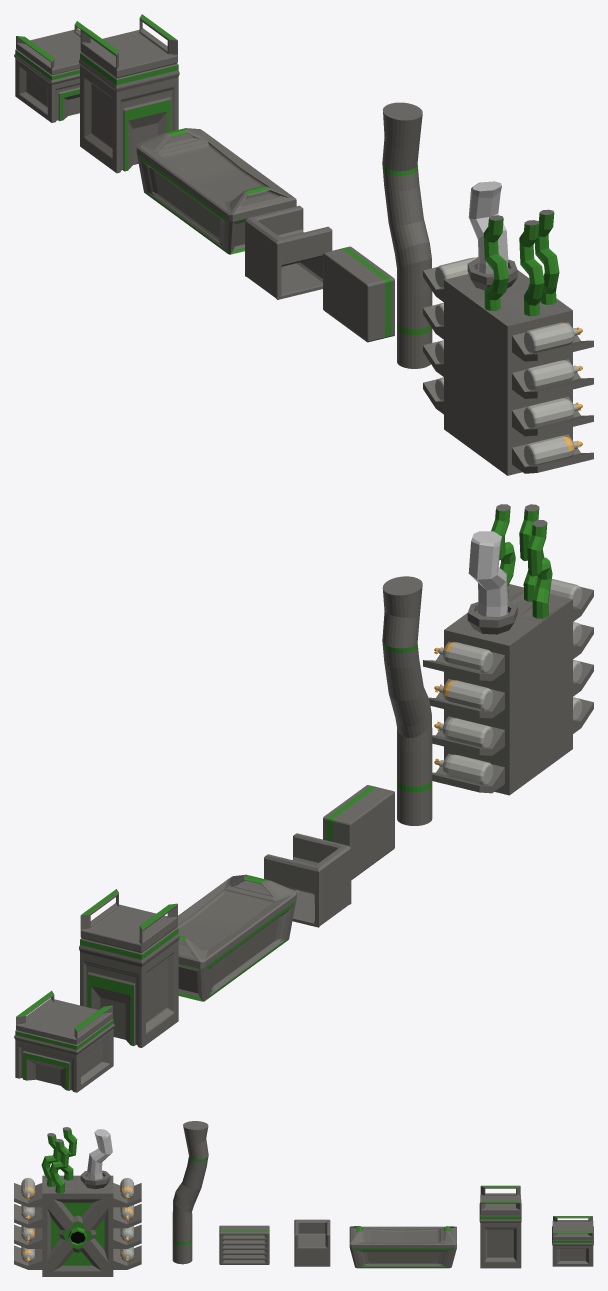
The model's file is AIRMACHINEandGREENPROPS.fbx.
The picture shows the model from 3 angles, top to bottom: view 1: azimuth 30°, elevation 25°; view 2: azimuth 150°, elevation 25°; view 3: azimuth 270°, elevation 25°; orthographic projection. The views are drawn at different scales.
Visible parts, largest first — view 1: AIR MACHINE, Cube.007, bench, Cylinder.004, Cube.005, Cube.008, Cube.006; view 2: AIR MACHINE, Cube.007, bench, Cylinder.004, Cube.006, Cube.005, Cube.008; view 3: AIR MACHINE, bench, Cube.007, Cylinder.004, Cube.006, Cube.008, Cube.005.
Boxes of the visible parts, bbox=[...] form: AIR MACHINE: bbox=[423, 181, 593, 475]; Cube.007: bbox=[79, 14, 179, 173]; bench: bbox=[136, 128, 296, 254]; Cylinder.004: bbox=[382, 102, 432, 368]; Cube.005: bbox=[245, 205, 332, 299]; Cube.008: bbox=[323, 246, 394, 342]; Cube.006: bbox=[14, 21, 93, 122]; AIR MACHINE: bbox=[423, 504, 593, 795]; Cube.007: bbox=[79, 889, 179, 1047]; bench: bbox=[177, 874, 296, 1001]; Cylinder.004: bbox=[382, 576, 432, 825]; Cube.006: bbox=[14, 990, 114, 1092]; Cube.005: bbox=[264, 833, 351, 927]; Cube.008: bbox=[323, 785, 394, 879]; AIR MACHINE: bbox=[14, 1127, 141, 1276]; bench: bbox=[349, 1226, 456, 1268]; Cube.007: bbox=[479, 1185, 521, 1268]; Cylinder.004: bbox=[172, 1121, 208, 1264]; Cube.006: bbox=[552, 1216, 593, 1266]; Cube.008: bbox=[219, 1225, 269, 1264]; Cube.005: bbox=[294, 1219, 330, 1266].
Bounding box in the file's own units: 140 × 360 × 1327.
